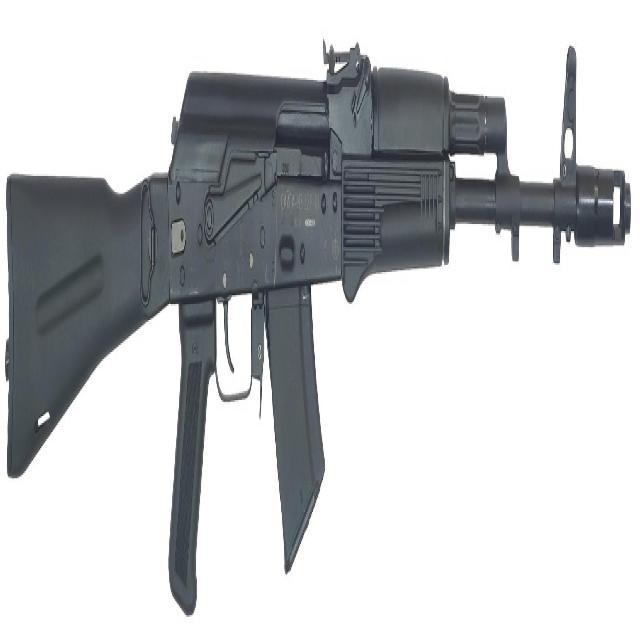weapon: (4, 29, 632, 618)
